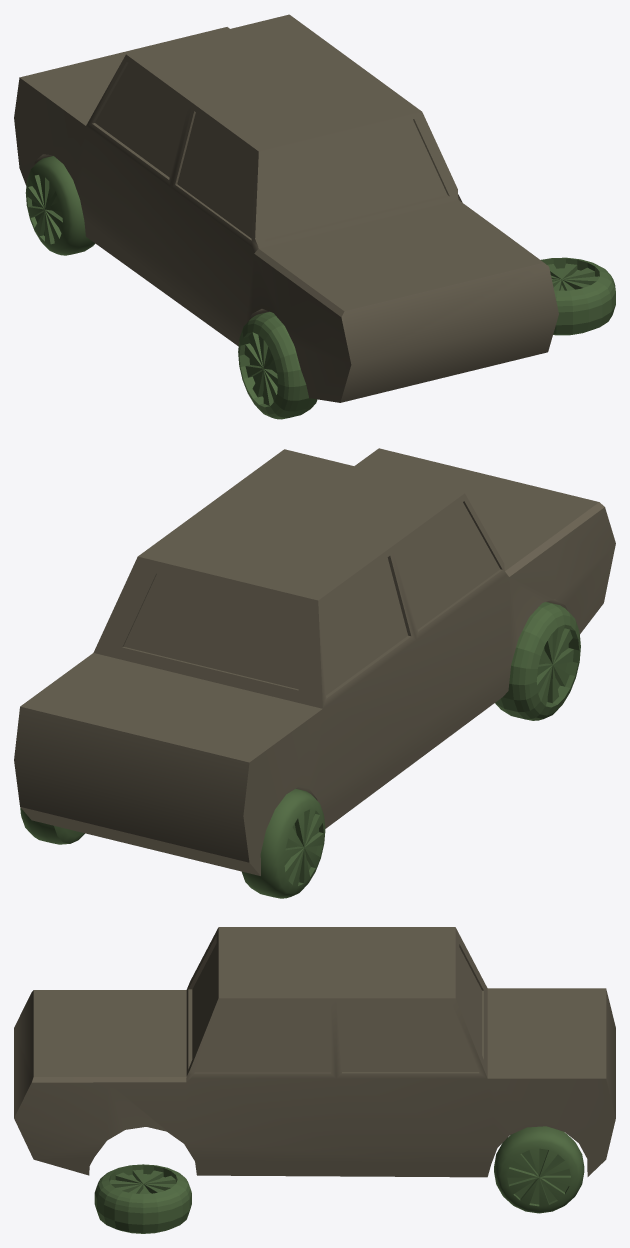
File: Auto.fbx
The picture shows the model from 3 angles, top to bottom: view 1: azimuth 30°, elevation 25°; view 2: azimuth 150°, elevation 25°; view 3: azimuth 270°, elevation 25°; orthographic projection. The views are drawn at different scales.
Visible parts, largest first — view 1: polySurface1, polySurface4, polySurface5, polySurface2; view 2: polySurface1, polySurface4, polySurface5, polySurface3; view 3: polySurface1, polySurface3, polySurface2.
Part boxes in pixels (x1=…): polySurface1: x1=14, y1=14, x2=558, y2=402; polySurface4: x1=238, y1=311, x2=317, y2=419; polySurface5: x1=25, y1=156, x2=95, y2=255; polySurface2: x1=541, y1=257, x2=615, y2=335; polySurface1: x1=14, y1=448, x2=615, y2=875; polySurface4: x1=495, y1=602, x2=580, y2=720; polySurface5: x1=242, y1=788, x2=325, y2=898; polySurface3: x1=20, y1=807, x2=84, y2=844; polySurface1: x1=14, y1=927, x2=615, y2=1177; polySurface3: x1=494, y1=1126, x2=584, y2=1213; polySurface2: x1=94, y1=1164, x2=191, y2=1233.
Bounding box in the file's own units: 169 × 104 × 281.
